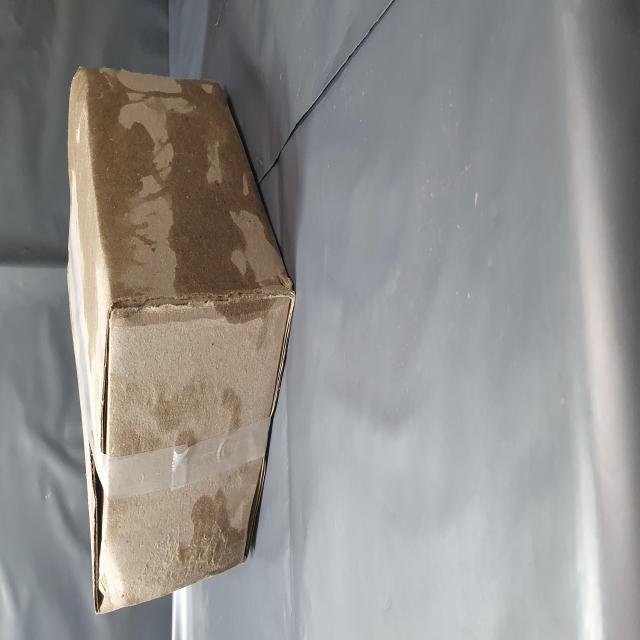wet: (161, 150, 317, 503), (28, 316, 88, 451)
